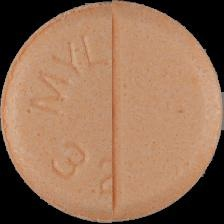76237-260: (0, 0, 224, 224)
